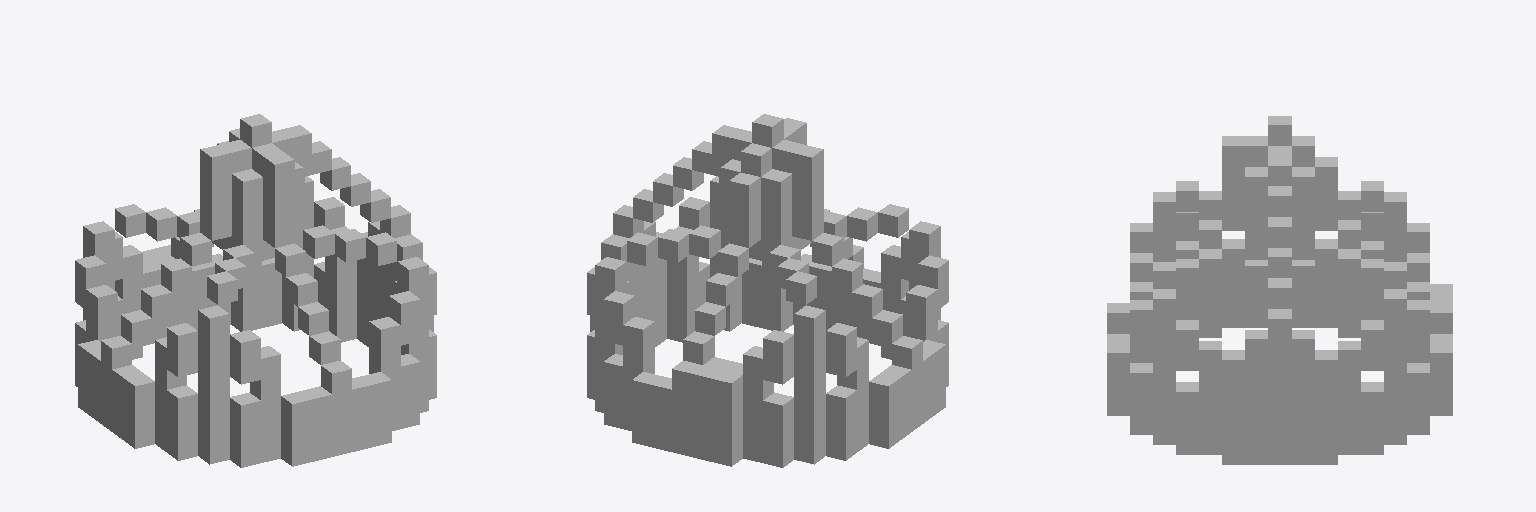
Rendered from Crown.obj.
3 renders of one model, left to right at view 1: azimuth 30°, elevation 25°; view 2: azimuth 150°, elevation 25°; view 3: azimuth 270°, elevation 25°, orthographic.
Size of the model in its own units: 15 by 13 by 15.